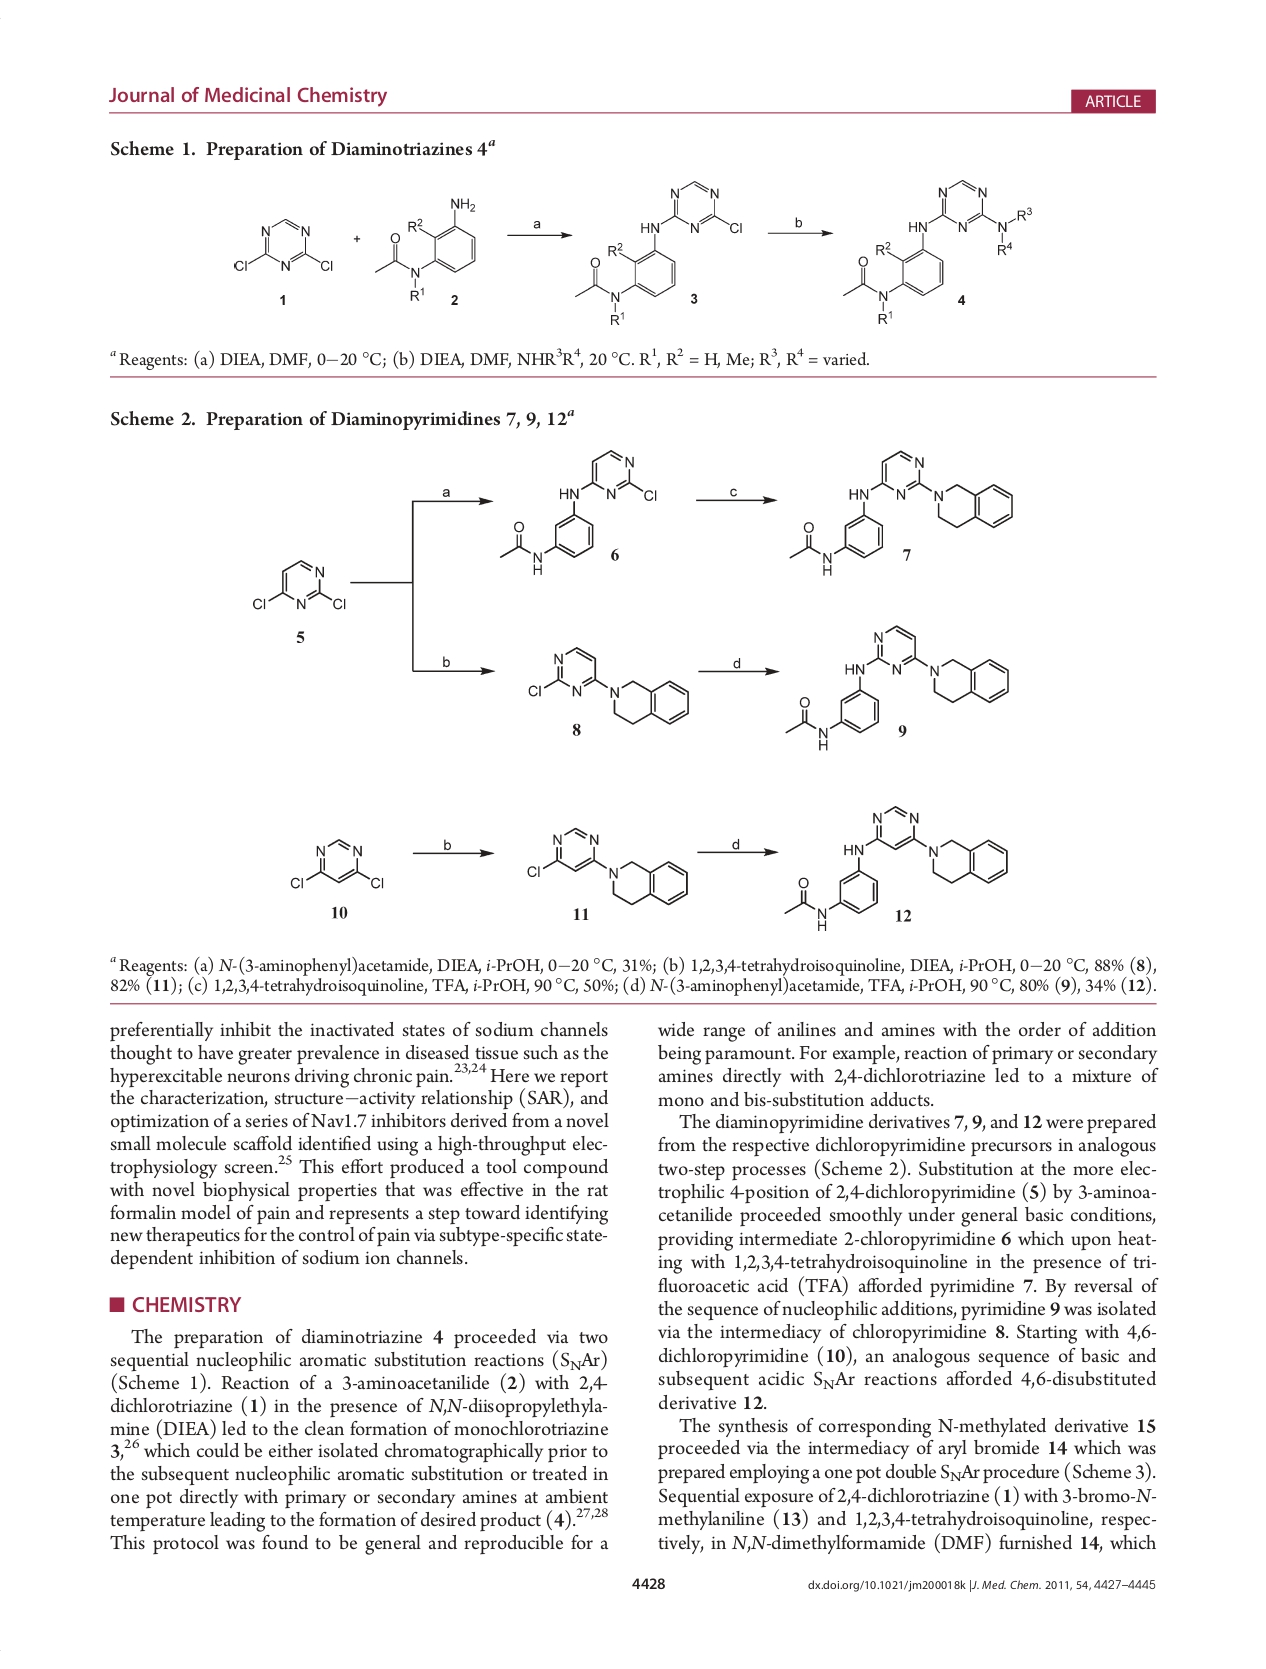exist_molecular: (786, 447, 1016, 577), (782, 622, 1012, 751), (782, 801, 1011, 930), (842, 177, 1037, 324), (572, 178, 745, 324), (497, 447, 660, 575), (519, 821, 694, 908), (524, 644, 692, 727), (372, 192, 477, 302), (226, 211, 336, 281), (289, 833, 384, 895), (247, 557, 348, 614)
